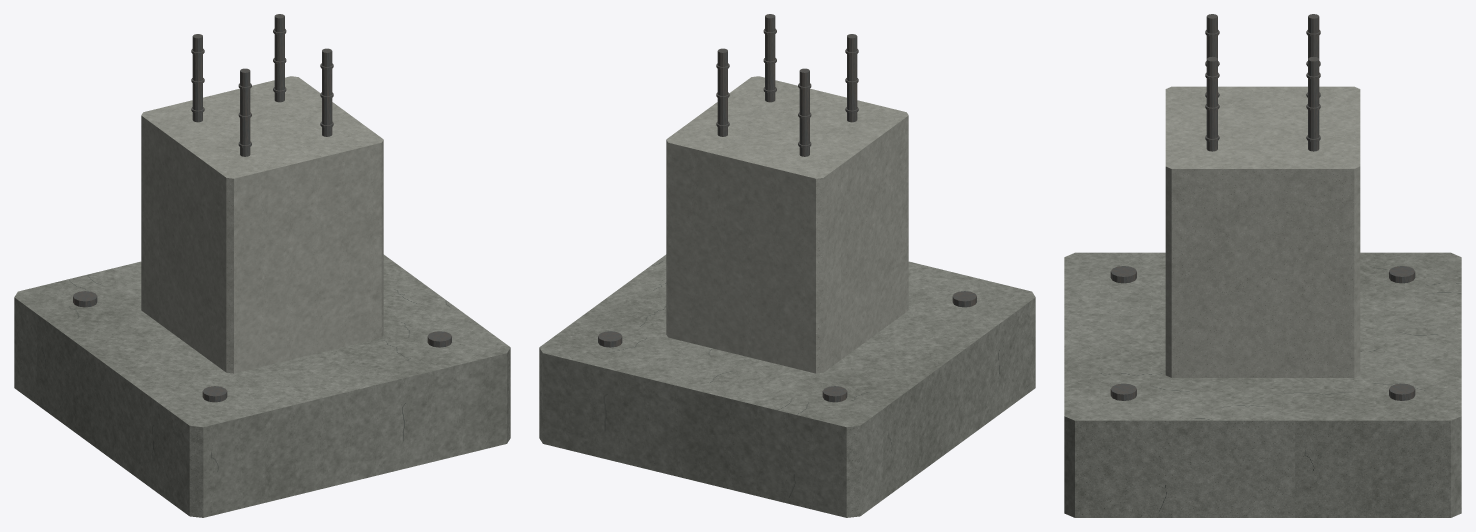
The model's file is PZ_Reinforced_Base_1m.glb.
3 renders of one model, left to right at view 1: azimuth 30°, elevation 25°; view 2: azimuth 150°, elevation 25°; view 3: azimuth 270°, elevation 25°, orthographic. The views are drawn at different scales.
Visible parts, largest first — view 1: RENDER_PZ_Reinforced_Base_1m__RENDER_Foundation_Footing__000, RENDER_PZ_Reinforced_Base_1m__RENDER_Raised_Pedestal__001, RENDER_PZ_Reinforced_Base_1m__RENDER_Rebar_04_Shaft__017, RENDER_PZ_Reinforced_Base_1m__RENDER_Rebar_03_Shaft__012, RENDER_PZ_Reinforced_Base_1m__RENDER_Rebar_01_Shaft__002, RENDER_PZ_Reinforced_Base_1m__RENDER_Rebar_02_Shaft__007; view 2: RENDER_PZ_Reinforced_Base_1m__RENDER_Foundation_Footing__000, RENDER_PZ_Reinforced_Base_1m__RENDER_Raised_Pedestal__001, RENDER_PZ_Reinforced_Base_1m__RENDER_Rebar_01_Shaft__002, RENDER_PZ_Reinforced_Base_1m__RENDER_Rebar_02_Shaft__007, RENDER_PZ_Reinforced_Base_1m__RENDER_Rebar_04_Shaft__017, RENDER_PZ_Reinforced_Base_1m__RENDER_Rebar_03_Shaft__012; view 3: RENDER_PZ_Reinforced_Base_1m__RENDER_Foundation_Footing__000, RENDER_PZ_Reinforced_Base_1m__RENDER_Raised_Pedestal__001, RENDER_PZ_Reinforced_Base_1m__RENDER_Rebar_02_Shaft__007, RENDER_PZ_Reinforced_Base_1m__RENDER_Rebar_03_Shaft__012, RENDER_PZ_Reinforced_Base_1m__RENDER_Rebar_01_Shaft__002, RENDER_PZ_Reinforced_Base_1m__RENDER_Rebar_04_Shaft__017.
Boxes of the visible parts, box(x1,y1,x2,y2) form: RENDER_PZ_Reinforced_Base_1m__RENDER_Foundation_Footing__000: box(14, 254, 510, 517); RENDER_PZ_Reinforced_Base_1m__RENDER_Raised_Pedestal__001: box(141, 76, 383, 373); RENDER_PZ_Reinforced_Base_1m__RENDER_Rebar_04_Shaft__017: box(192, 34, 202, 122); RENDER_PZ_Reinforced_Base_1m__RENDER_Rebar_03_Shaft__012: box(274, 14, 284, 102); RENDER_PZ_Reinforced_Base_1m__RENDER_Rebar_01_Shaft__002: box(240, 68, 250, 156); RENDER_PZ_Reinforced_Base_1m__RENDER_Rebar_02_Shaft__007: box(322, 48, 332, 136); RENDER_PZ_Reinforced_Base_1m__RENDER_Foundation_Footing__000: box(539, 254, 1035, 517); RENDER_PZ_Reinforced_Base_1m__RENDER_Raised_Pedestal__001: box(666, 76, 908, 373); RENDER_PZ_Reinforced_Base_1m__RENDER_Rebar_01_Shaft__002: box(847, 34, 857, 122); RENDER_PZ_Reinforced_Base_1m__RENDER_Rebar_02_Shaft__007: box(765, 14, 775, 102); RENDER_PZ_Reinforced_Base_1m__RENDER_Rebar_04_Shaft__017: box(799, 68, 809, 156); RENDER_PZ_Reinforced_Base_1m__RENDER_Rebar_03_Shaft__012: box(717, 48, 727, 136); RENDER_PZ_Reinforced_Base_1m__RENDER_Foundation_Footing__000: box(1064, 252, 1461, 517); RENDER_PZ_Reinforced_Base_1m__RENDER_Raised_Pedestal__001: box(1165, 86, 1360, 377); RENDER_PZ_Reinforced_Base_1m__RENDER_Rebar_02_Shaft__007: box(1206, 56, 1217, 151); RENDER_PZ_Reinforced_Base_1m__RENDER_Rebar_03_Shaft__012: box(1308, 56, 1319, 151); RENDER_PZ_Reinforced_Base_1m__RENDER_Rebar_01_Shaft__002: box(1206, 14, 1217, 58); RENDER_PZ_Reinforced_Base_1m__RENDER_Rebar_04_Shaft__017: box(1308, 14, 1319, 58).
Size of the model in its own units: 1 by 1.1 by 1.
3 materials, 3 textured.
